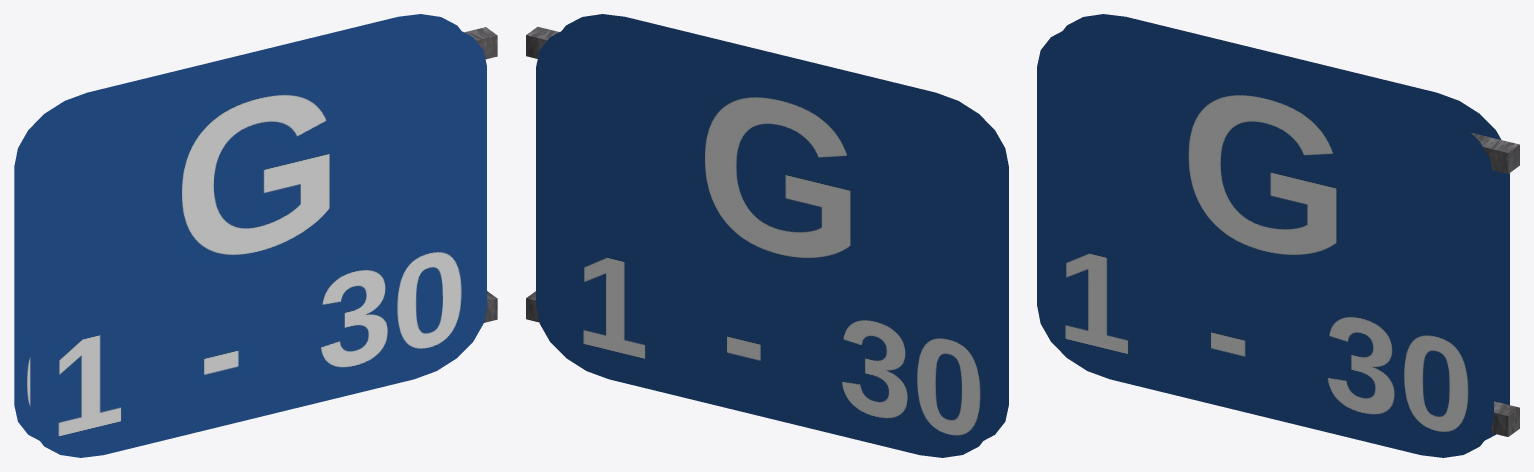
3 renders of one model, left to right at view 1: azimuth 30°, elevation 25°; view 2: azimuth 150°, elevation 25°; view 3: azimuth 330°, elevation 25°, orthographic.
Parts seen in each view (by area): view 1: Cube; view 2: Cube; view 3: Cube.
Part boxes in pixels (<box>): Cube: <box>14,14,497,457</box>; Cube: <box>526,14,1008,457</box>; Cube: <box>1037,14,1519,457</box>.
Bounding box in the file's own units: 0.9334 × 0.667 × 0.055.
2 materials, 2 textured.
